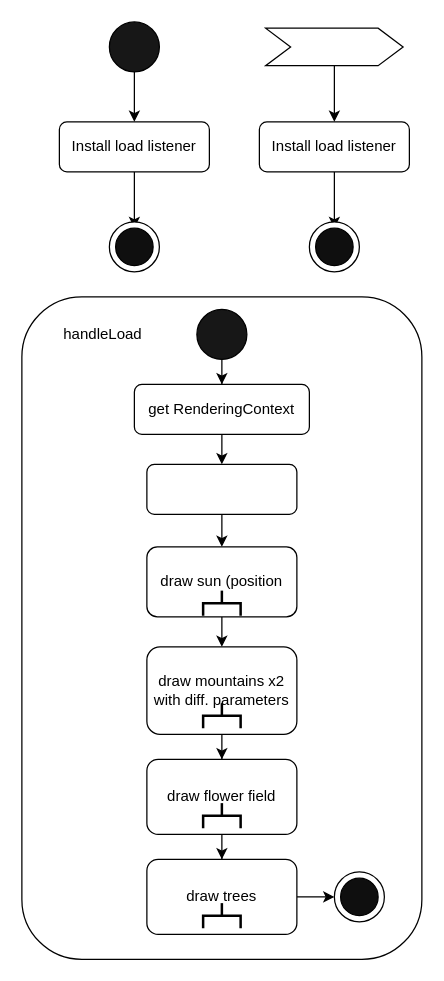
The diagram is 444 pixels wide and 981 high, and some of its shapes have lost their labels. Each missing label, with the centre of its shape:
draw background: (x=221, y=488)
load: (x=333, y=46)
